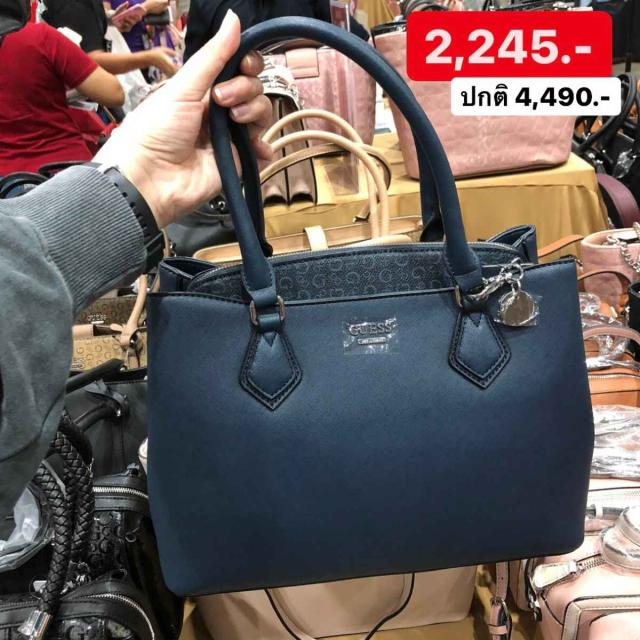handbag: (147, 224, 586, 594)
